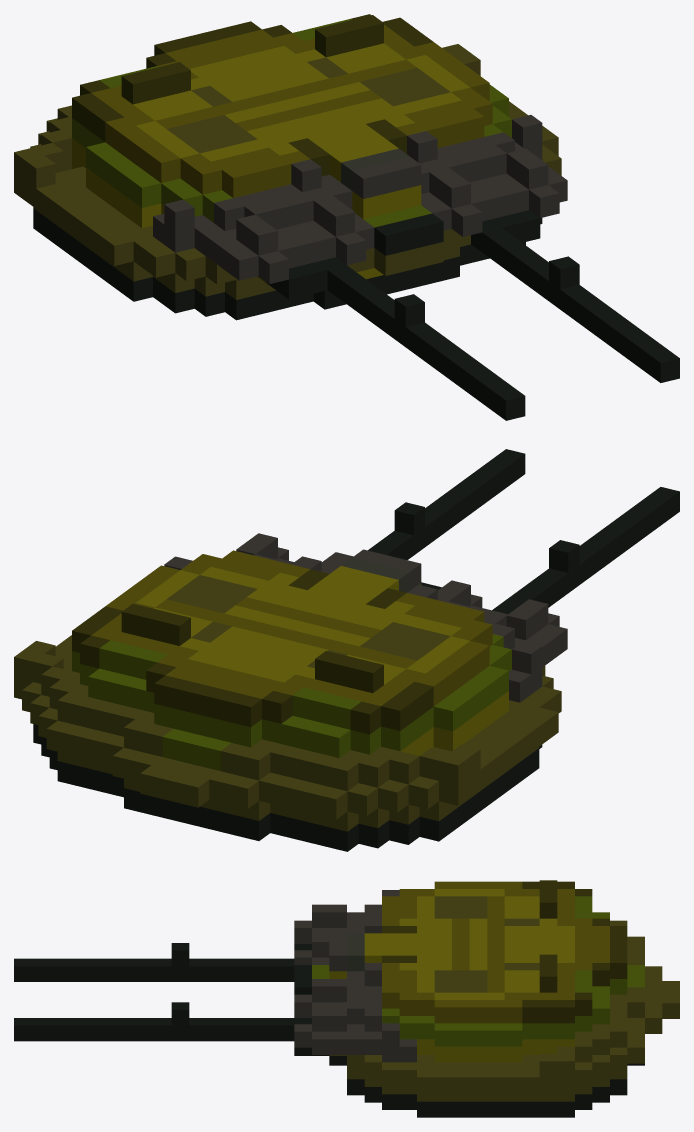
Rendered from light-weapon.glb.
3 renders of one model, top to bottom at view 1: azimuth 30°, elevation 25°; view 2: azimuth 150°, elevation 25°; view 3: azimuth 270°, elevation 25°, orthographic. The views are drawn at different scales.
Visible parts, largest first — view 1: Untitled; view 2: Untitled; view 3: Untitled.
Boxes of the visible parts, x1,y1,x2,y2 form: Untitled: (14,14,679,420); Untitled: (14,449,679,851); Untitled: (14,880,679,1117).
Bounding box in the file's own units: 2.3 × 0.7 × 3.8.
1 material, 1 textured.
